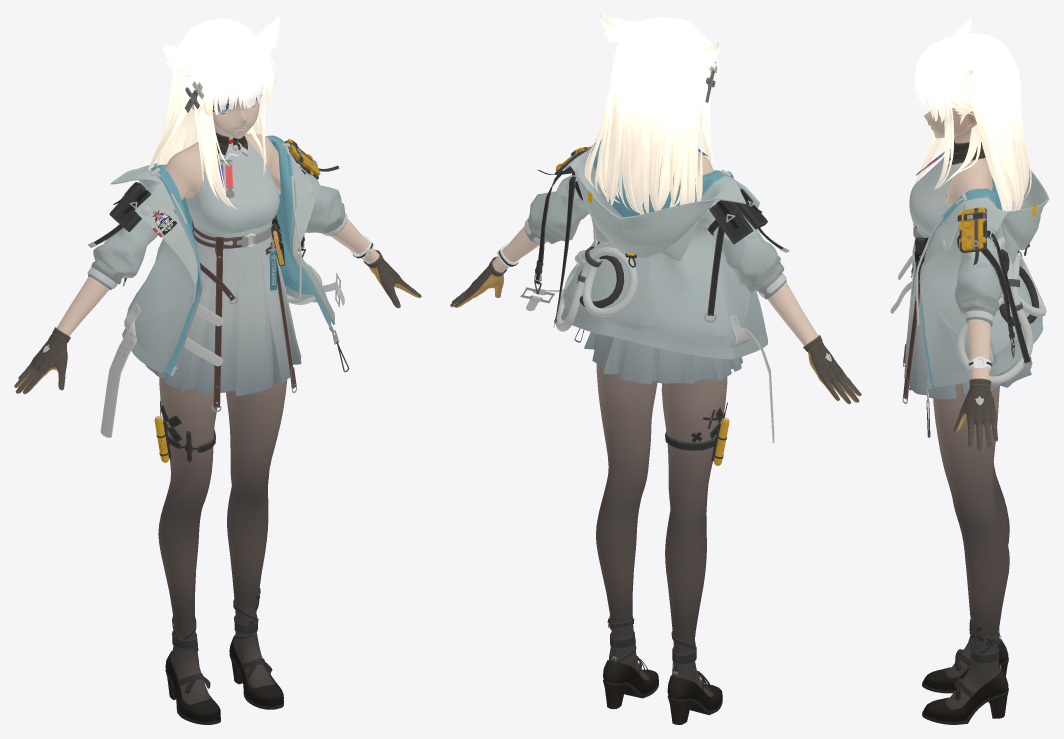
Rendered from arknights_endfield_-perlica-.glb.
3 views of the same model, side by side, from view 1: azimuth 30°, elevation 25°; view 2: azimuth 150°, elevation 25°; view 3: azimuth 270°, elevation 25° (orthographic). The views are drawn at different scales.
Parts seen in each view (by area): view 1: skfb_offset; view 2: skfb_offset; view 3: skfb_offset.
Boxes of the visible parts, x1,y1,x2,y2 form: skfb_offset: (14, 14, 421, 724); skfb_offset: (450, 14, 861, 724); skfb_offset: (890, 14, 1049, 724).
Size of the model in its own units: 40456 by 64774 by 14069.
6 materials, 5 textured.
